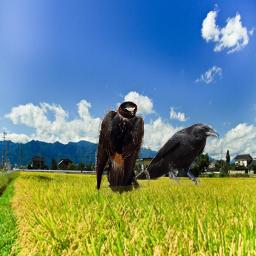Crow: (131, 122, 219, 188)
Swallow: (95, 101, 144, 195)
